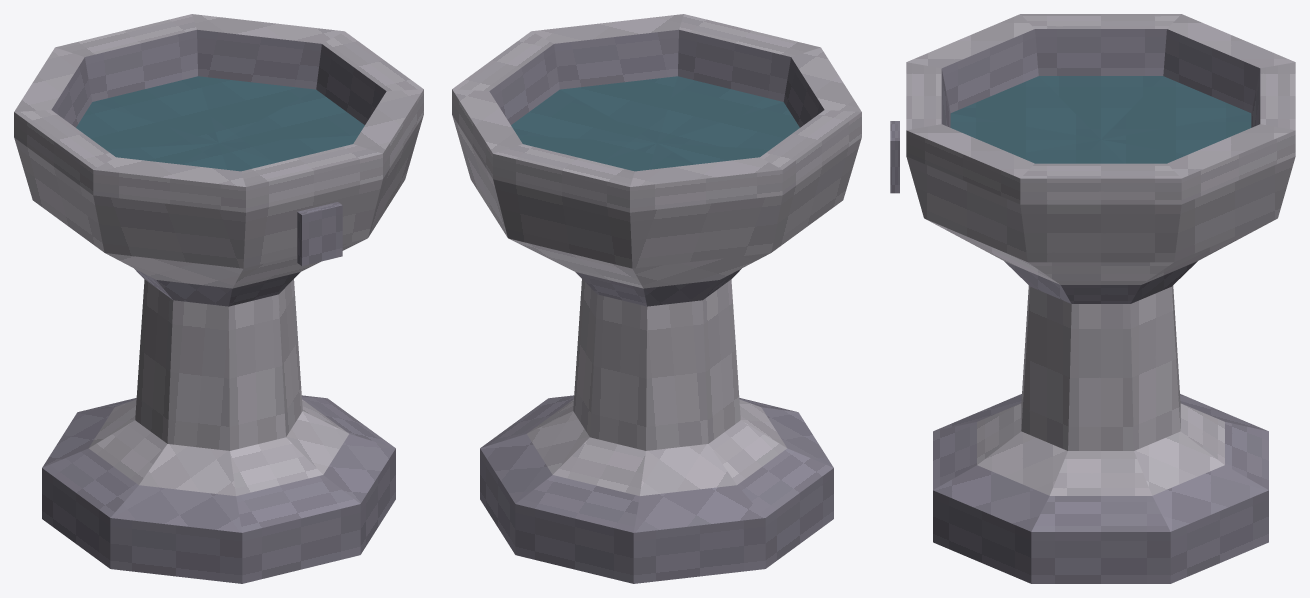
Rendered from stone-font.glb.
The picture shows the model from 3 angles, left to right: view 1: azimuth 30°, elevation 25°; view 2: azimuth 150°, elevation 25°; view 3: azimuth 270°, elevation 25°; orthographic projection.
Visible parts, largest first — view 1: stone-font.001; view 2: stone-font.001; view 3: stone-font.001.
Part boxes in pixels (x1,y1,x2,y2): stone-font.001: [14, 14, 423, 583]; stone-font.001: [452, 14, 861, 583]; stone-font.001: [890, 14, 1295, 583].
Bounding box in the file's own units: 0.813 × 0.96 × 0.8465.
Materials: 1 (1 with a texture image).
